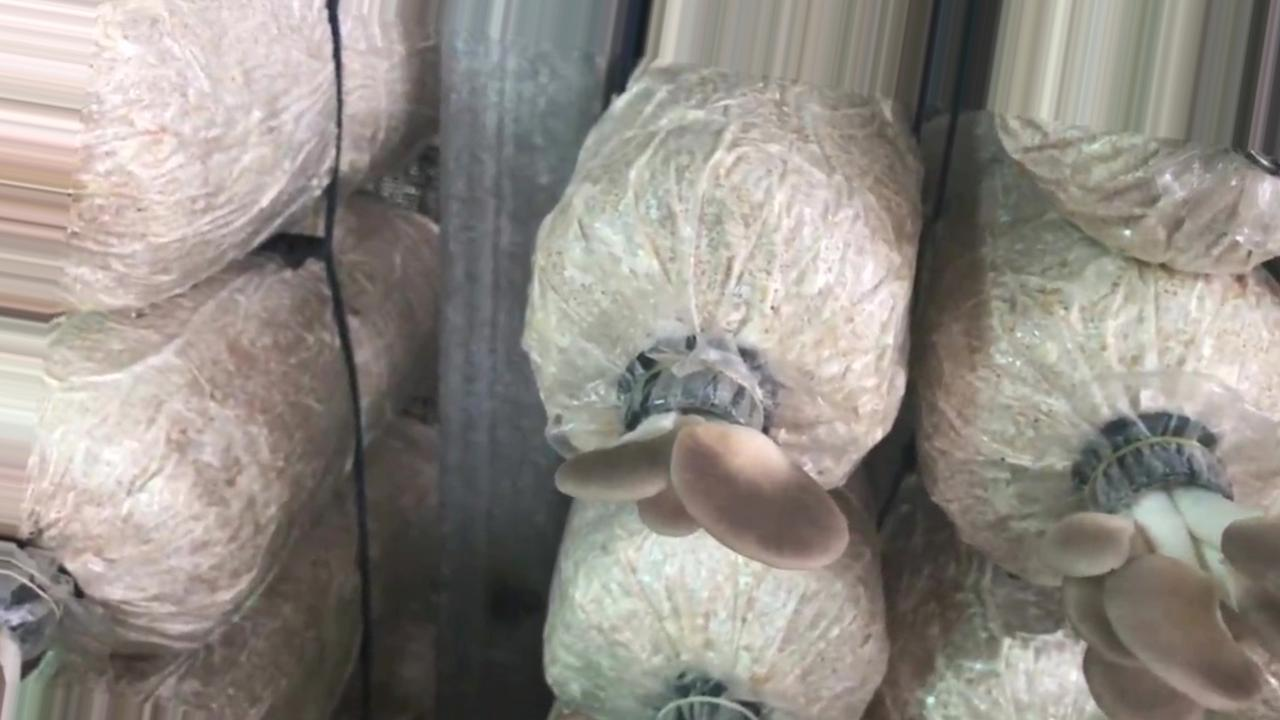nam: (557, 342, 845, 570), (1071, 423, 1279, 720)
